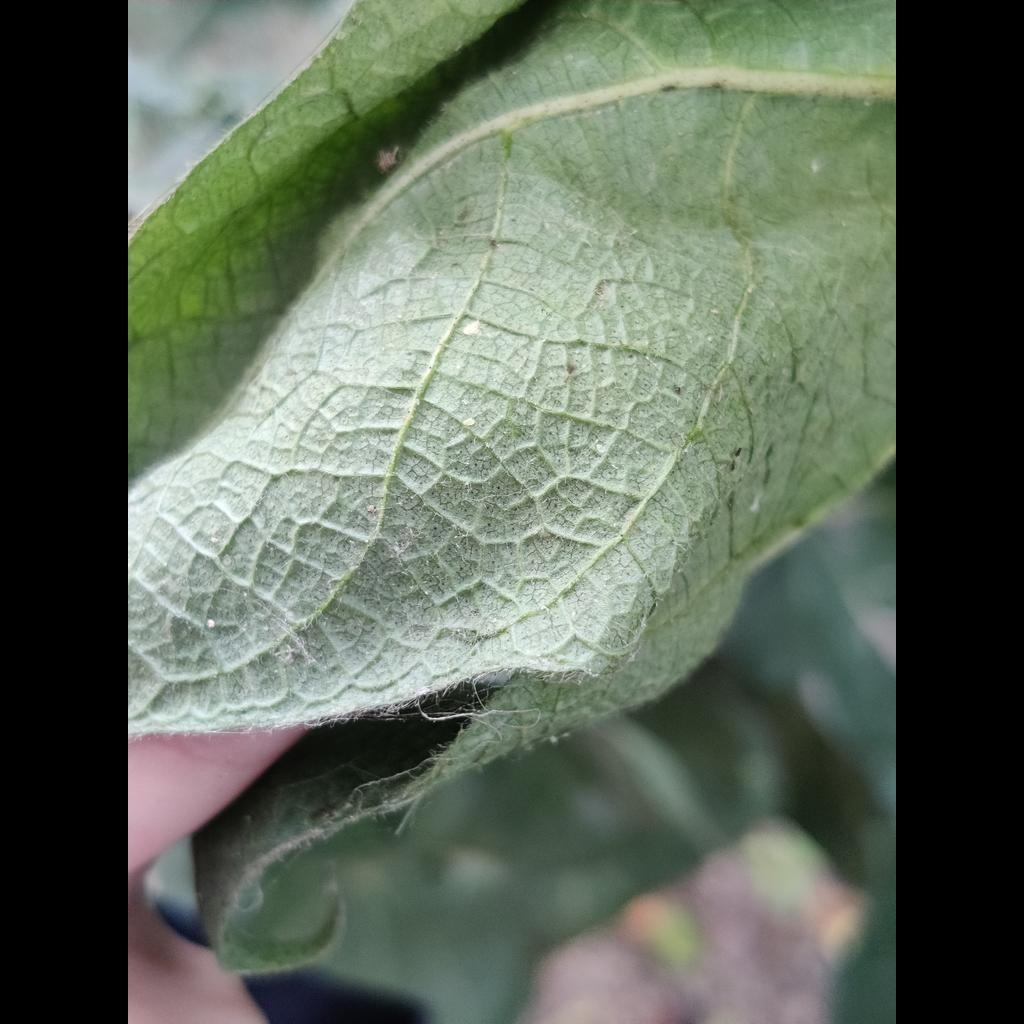nymph: (463, 320, 480, 335), (749, 495, 760, 513), (462, 417, 475, 427), (223, 553, 232, 566), (206, 619, 216, 629)
